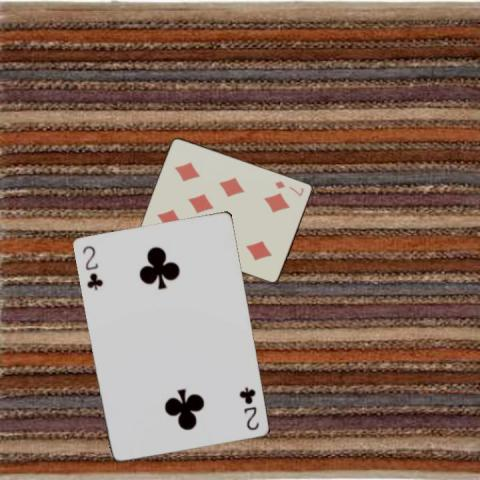2c: (79, 242, 104, 291), (237, 384, 260, 431)
7d: (272, 178, 305, 197)
